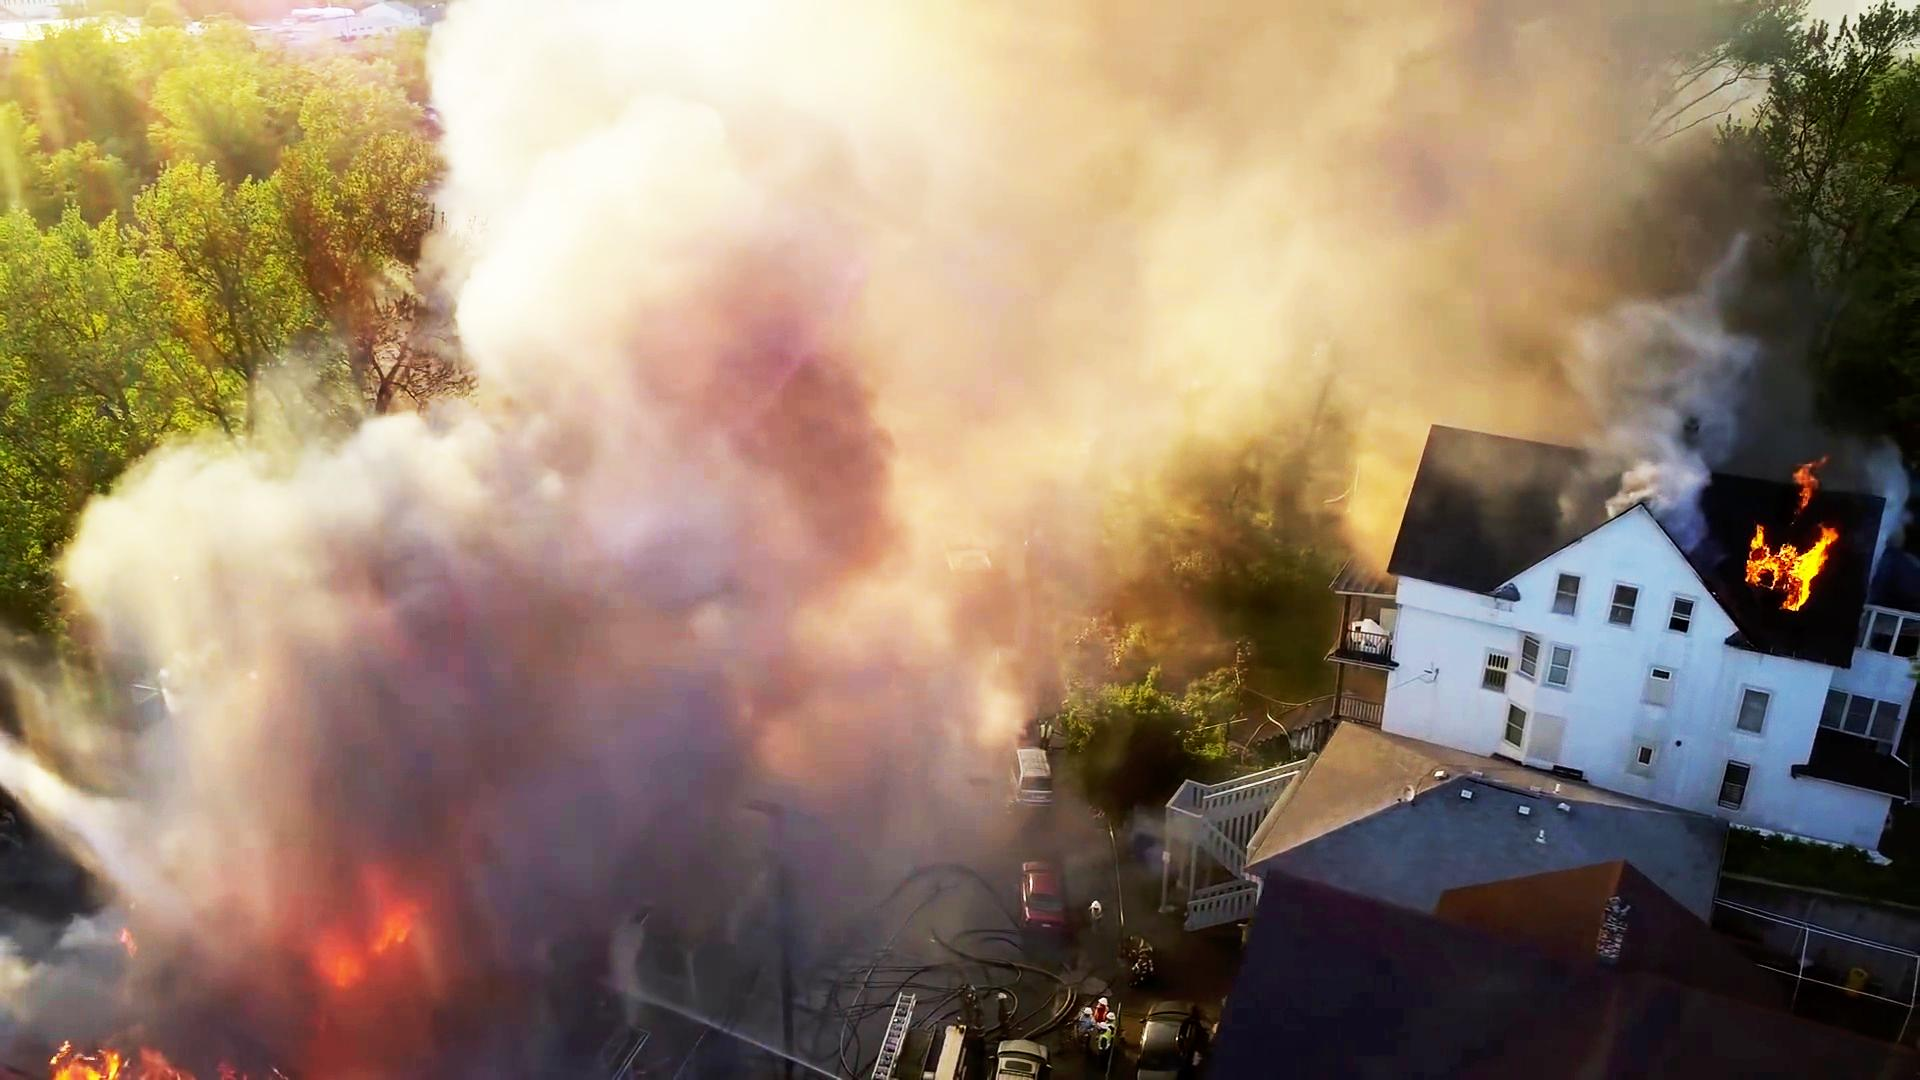fire: (1745, 458, 1837, 607)
smoke: (591, 13, 1540, 352), (406, 429, 715, 934)
